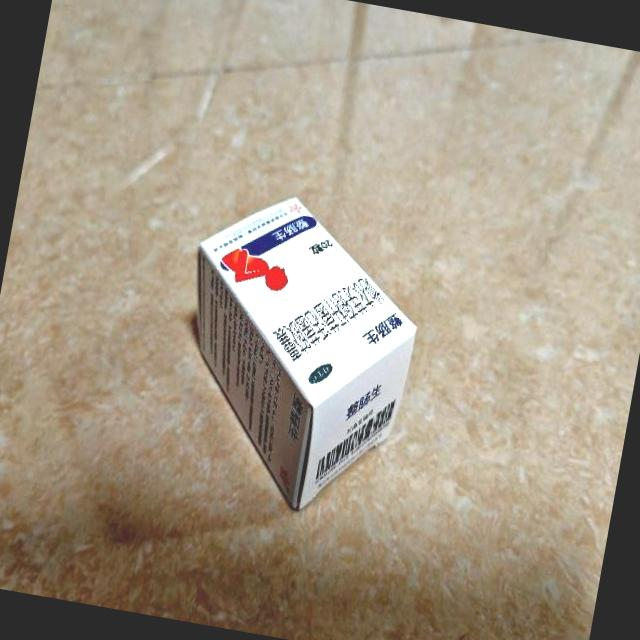box: (152, 180, 436, 528)
